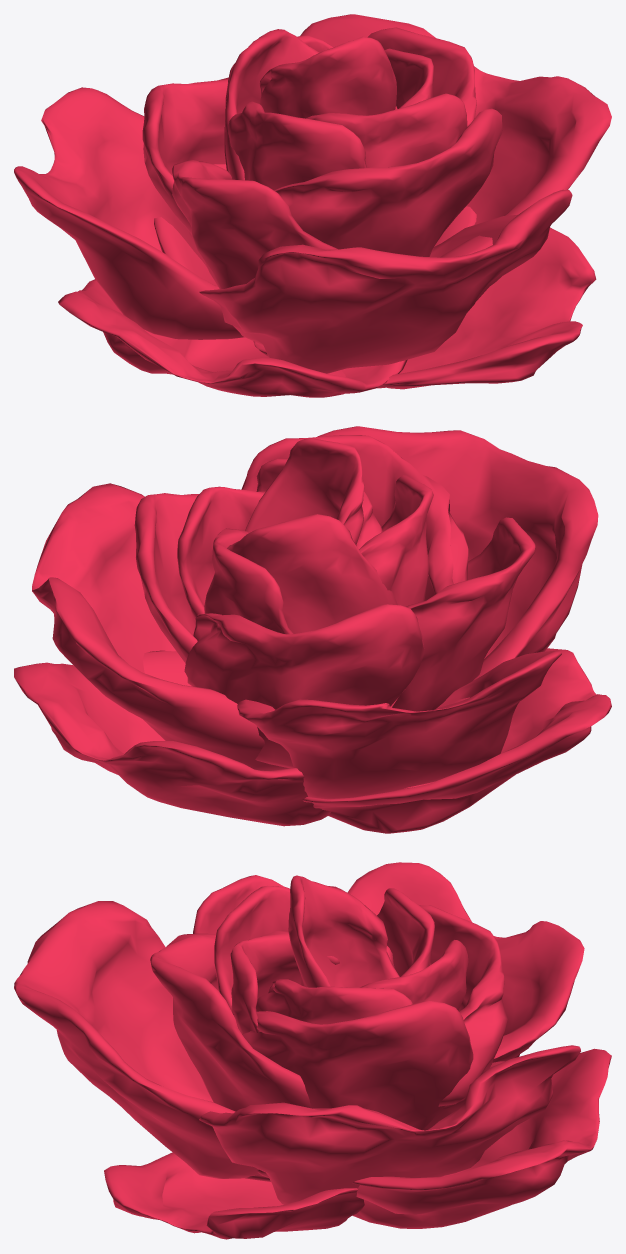
File: rose.fbx
3 renders of one model, top to bottom at view 1: azimuth 30°, elevation 25°; view 2: azimuth 150°, elevation 25°; view 3: azimuth 270°, elevation 25°, orthographic. The views are drawn at different scales.
Parts seen in each view (by area): view 1: 球.008; view 2: 球.008; view 3: 球.008.
Boxes of the visible parts, bbox=[...] form: 球.008: bbox=[14, 14, 611, 397]; 球.008: bbox=[14, 426, 611, 833]; 球.008: bbox=[14, 862, 611, 1239].
Size of the model in its own units: 180 by 107 by 182.
